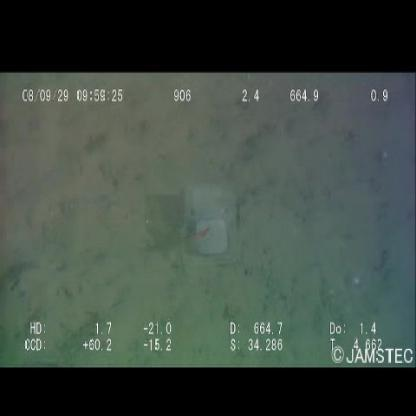Rác: (180, 183, 240, 272)
